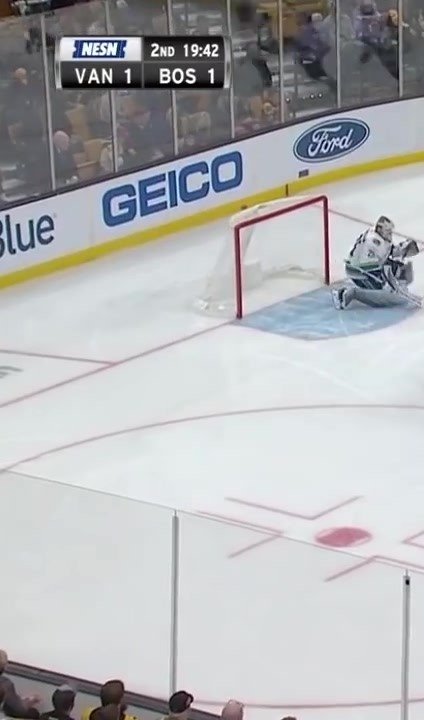Geico: (99, 148, 251, 230)
